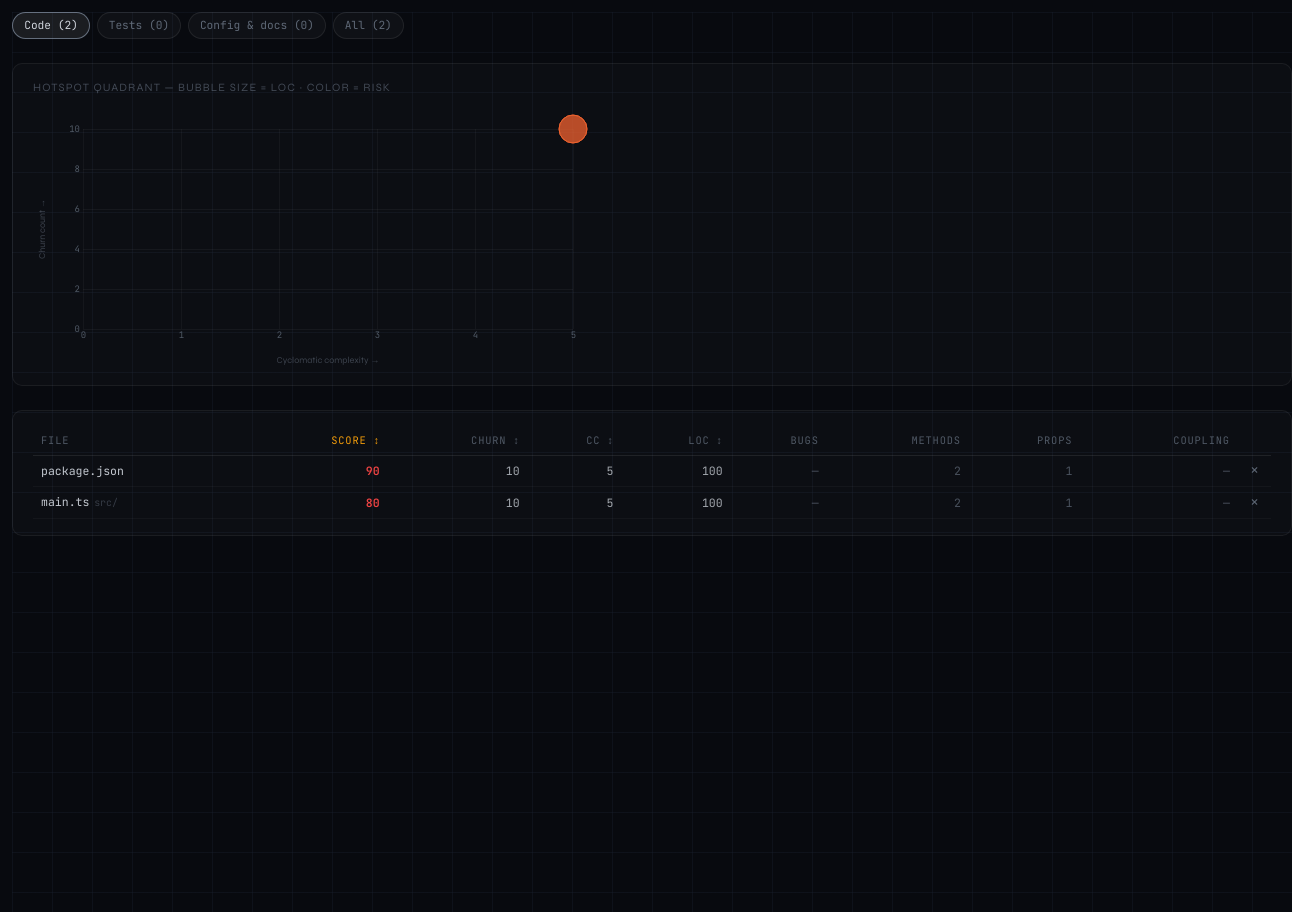
Test: HotspotsView dismiss › removes a file from the table when its dismiss control is clicked
Check: the cell titled "package.json" is shown, box [33,456,248,486]
Check: the cell titled "src/main.ts" is shown, box [33,486,248,518]
dismiss the first (highest-score) row — package.json
Click the button named "dismiss". click: [1254, 470]
box: [1246,462,1263,478]
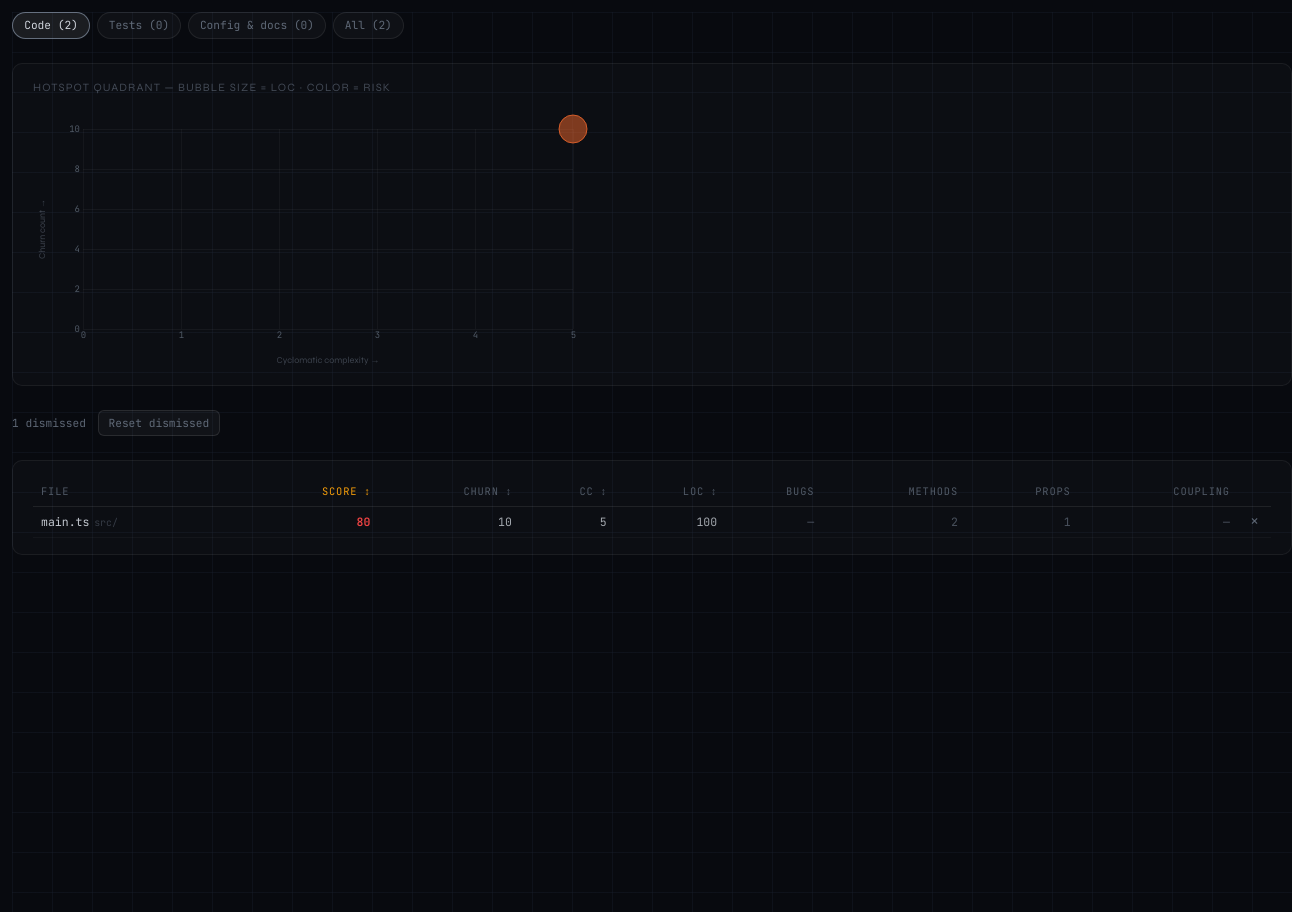
Check: the cell titled "src/main.ts" is shown, box [33,506,237,538]
Check: the text titled "package.json" is gone
